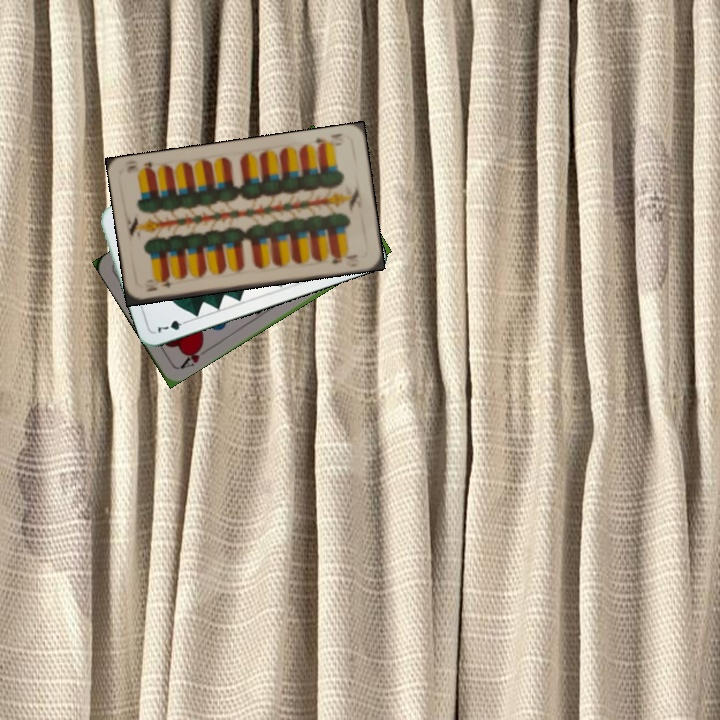E10: (310, 129, 345, 151), (141, 275, 180, 294)
G7: (152, 316, 192, 336)
HA: (175, 339, 211, 372)
